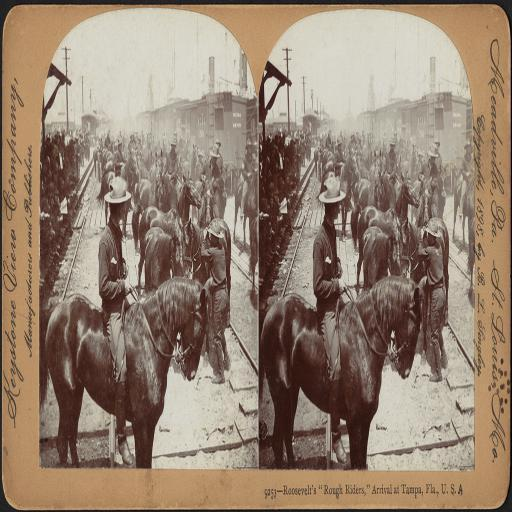horse: (38, 276, 212, 470), (260, 274, 428, 472), (310, 128, 448, 368), (90, 135, 234, 361), (452, 166, 477, 246), (231, 174, 257, 242), (248, 216, 259, 299), (466, 212, 476, 296)
